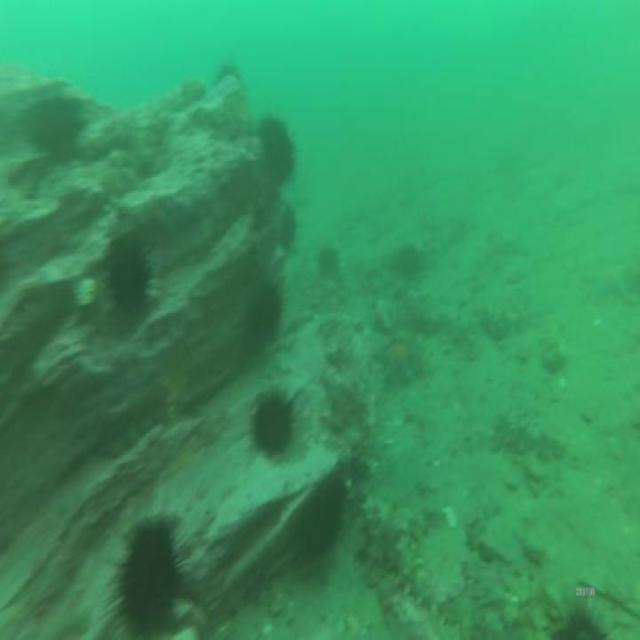echinus: (118, 515, 185, 637), (102, 234, 160, 321), (243, 378, 300, 463), (536, 583, 617, 640), (296, 474, 346, 559), (39, 88, 80, 170), (243, 269, 287, 343), (260, 107, 296, 193), (278, 206, 297, 254)
holothurian: (356, 488, 433, 607)
starfish: (376, 324, 422, 393), (586, 255, 640, 311)
